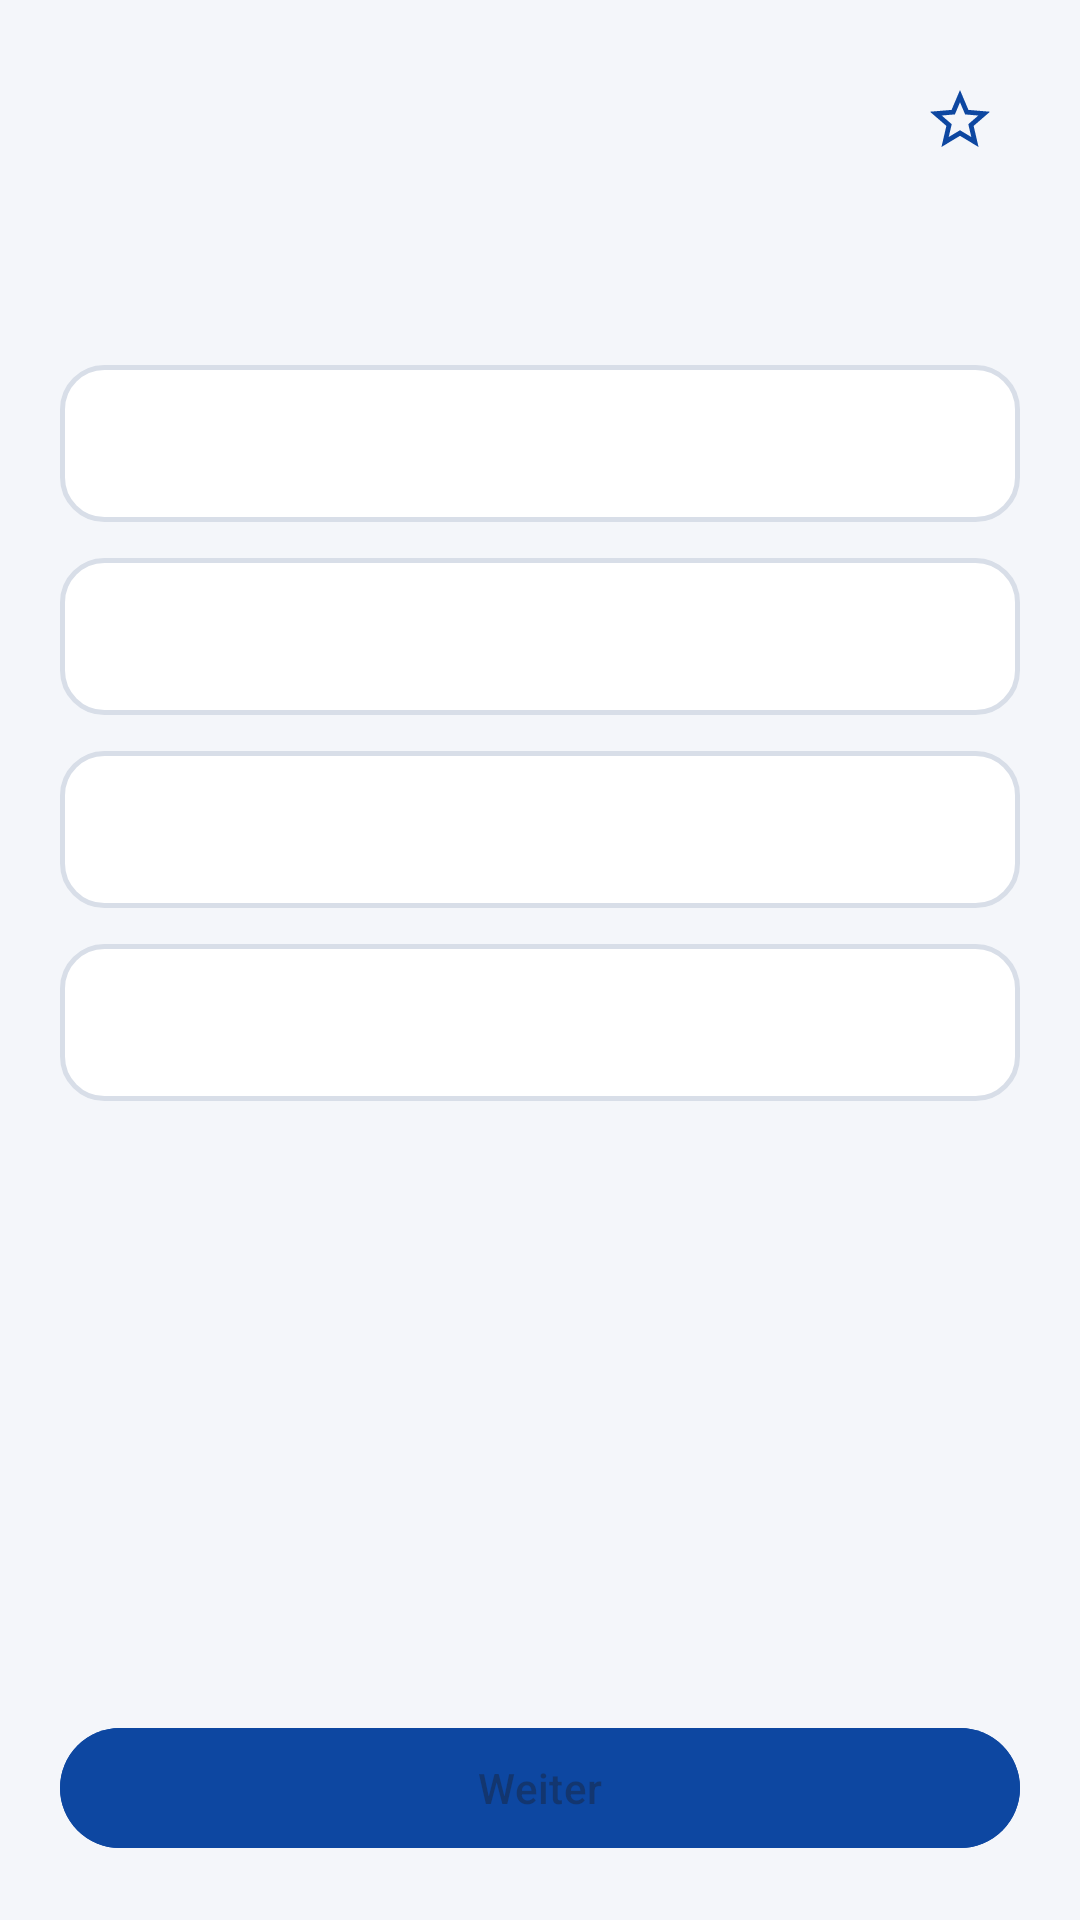

Named icons in this screenshot (1080x1920) and their bounding boxes, (x1, y1, x2, y2):
Frage markieren: (930, 90, 990, 147)
